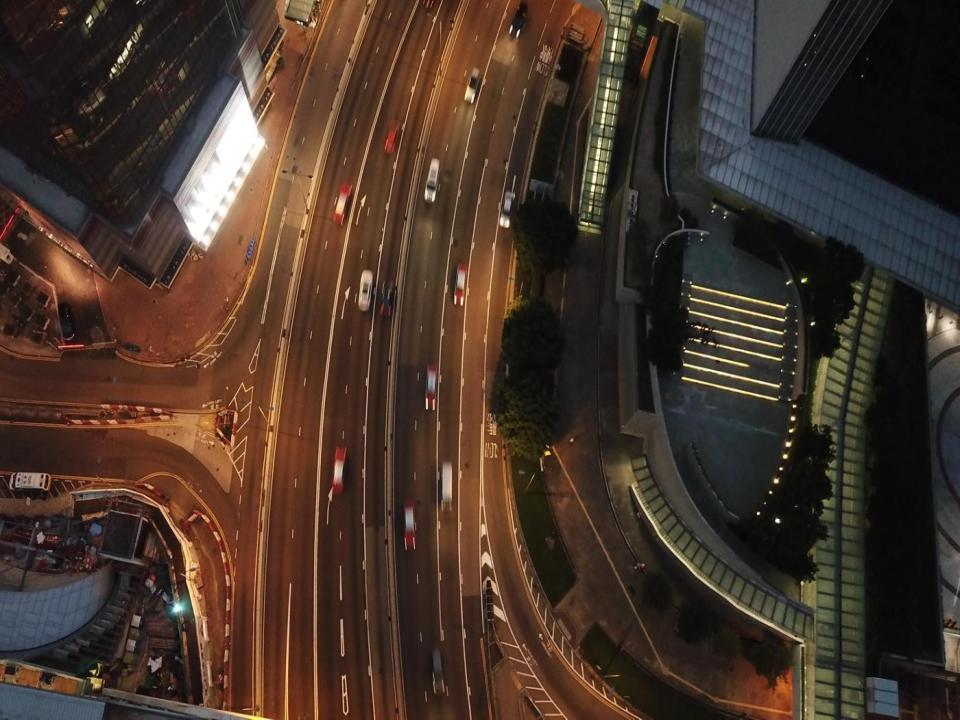car: (334, 182, 351, 225), (332, 444, 346, 493), (430, 648, 445, 692), (439, 461, 452, 509), (424, 363, 437, 410), (403, 504, 416, 550), (383, 121, 400, 154), (499, 191, 514, 228), (359, 268, 372, 310), (454, 264, 467, 306), (379, 281, 394, 316)
van: (9, 472, 53, 492), (423, 157, 440, 203), (509, 4, 528, 39), (58, 304, 76, 340), (464, 67, 481, 103)
